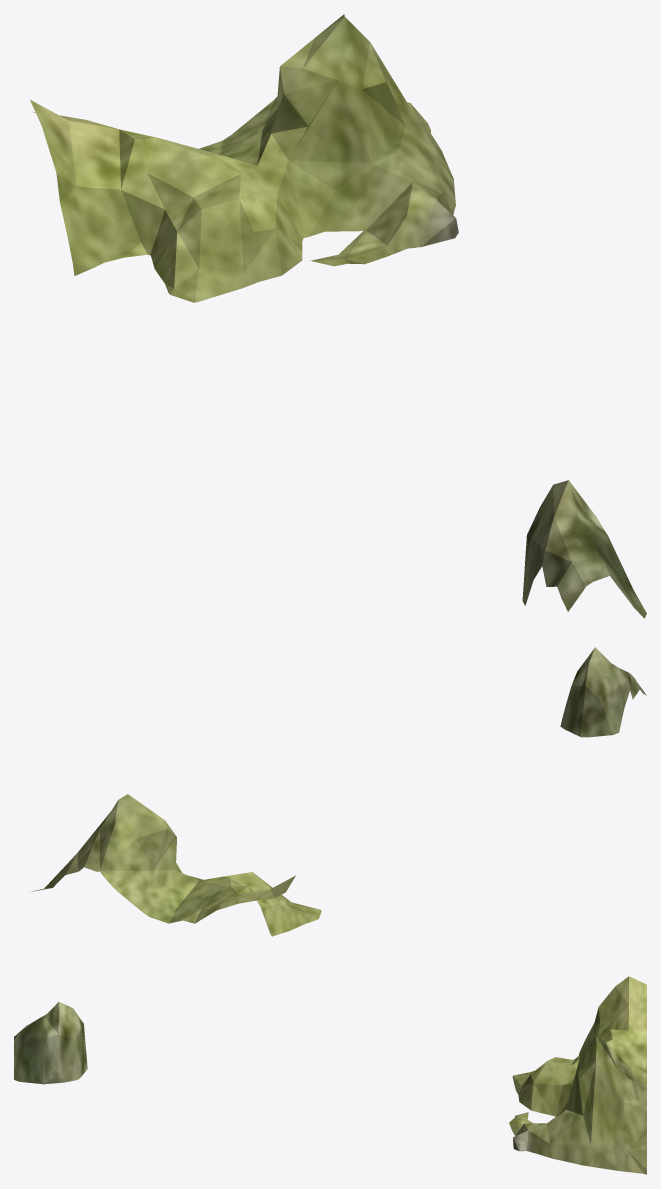
3 renders of one model, top to bottom at view 1: azimuth 30°, elevation 25°; view 2: azimuth 150°, elevation 25°; view 3: azimuth 270°, elevation 25°, orthographic. The views are drawn at different scales.
Bounding box in the file's own units: 2.56 × 1.05 × 5.9.
Materials: 1 (1 with a texture image).
